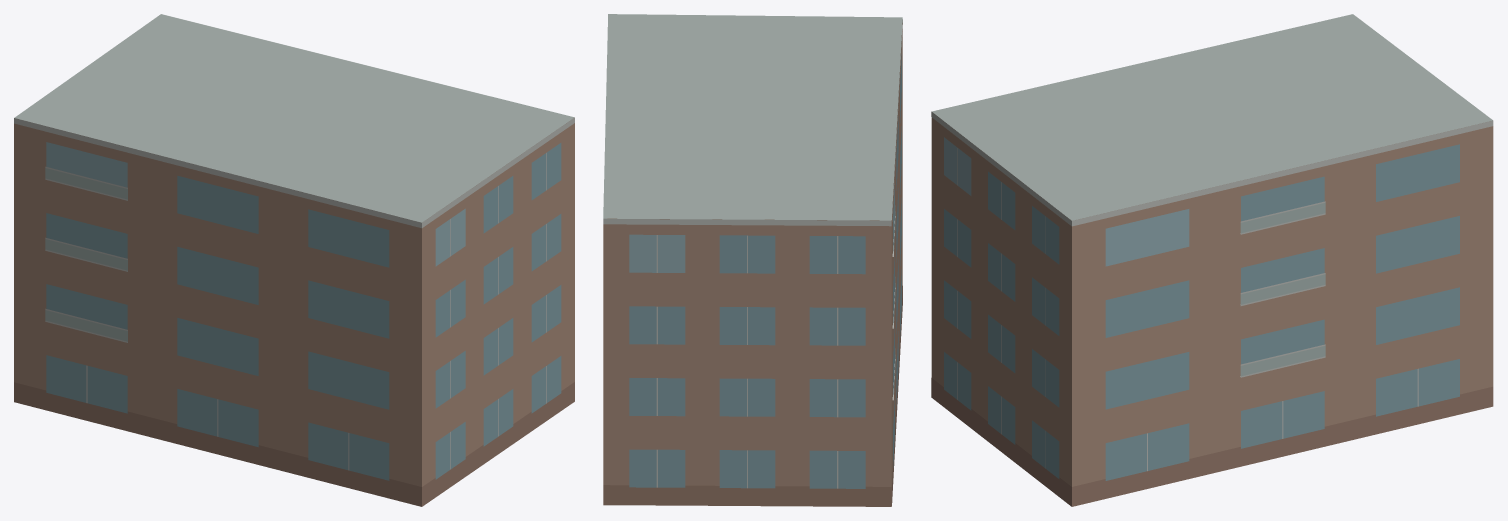
The model's file is survey-upis-32612900.glb.
3 renders of one model, left to right at view 1: azimuth 30°, elevation 25°; view 2: azimuth 150°, elevation 25°; view 3: azimuth 270°, elevation 25°, orthographic.
Visible parts, largest first — view 1: survey-upis-32612900.tmp; view 2: survey-upis-32612900.tmp; view 3: survey-upis-32612900.tmp.
Part boxes in pixels (x1,y1,x2,y2): survey-upis-32612900.tmp: [14, 14, 574, 506]; survey-upis-32612900.tmp: [603, 14, 902, 506]; survey-upis-32612900.tmp: [931, 14, 1493, 506].
Size of the model in its own units: 19.24 by 12.4 by 22.08.
